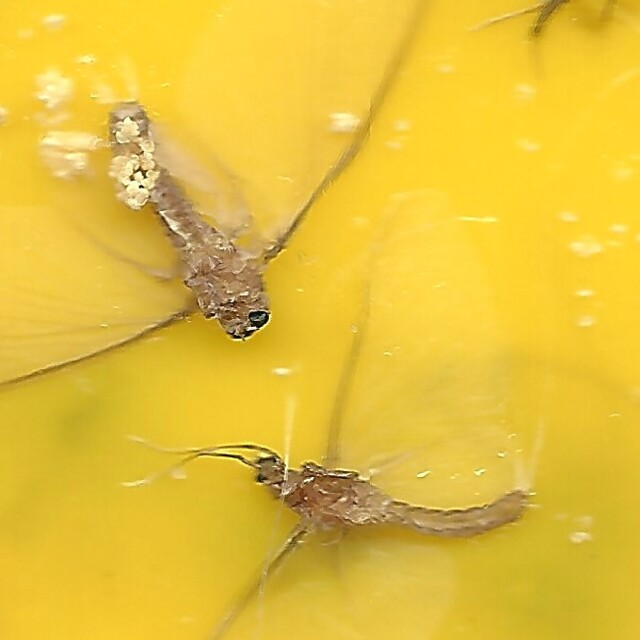Ephemeroptera: (107, 98, 273, 349), (244, 451, 533, 542)
